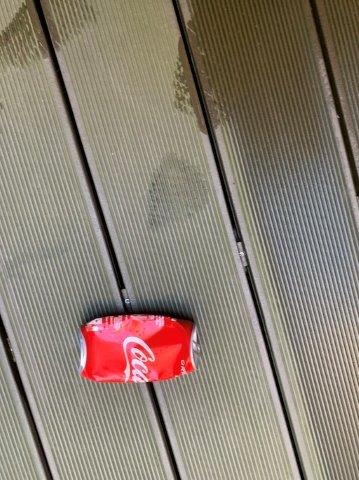kaleng: (79, 315, 199, 381)
